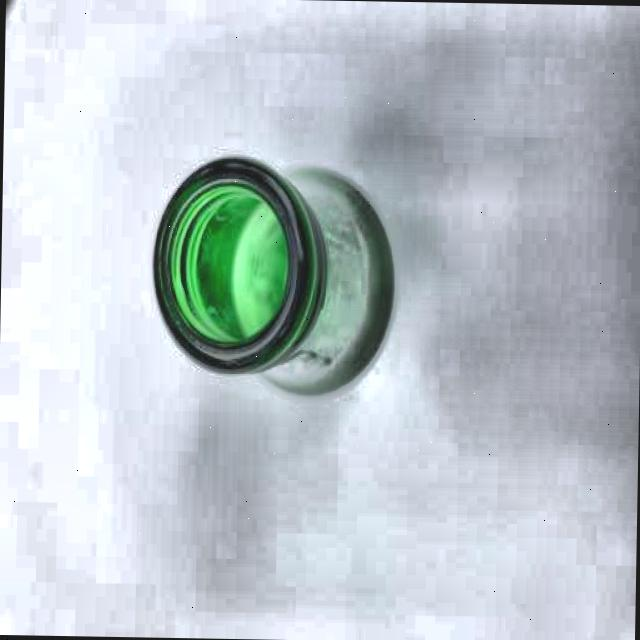glass: (149, 144, 402, 396)
